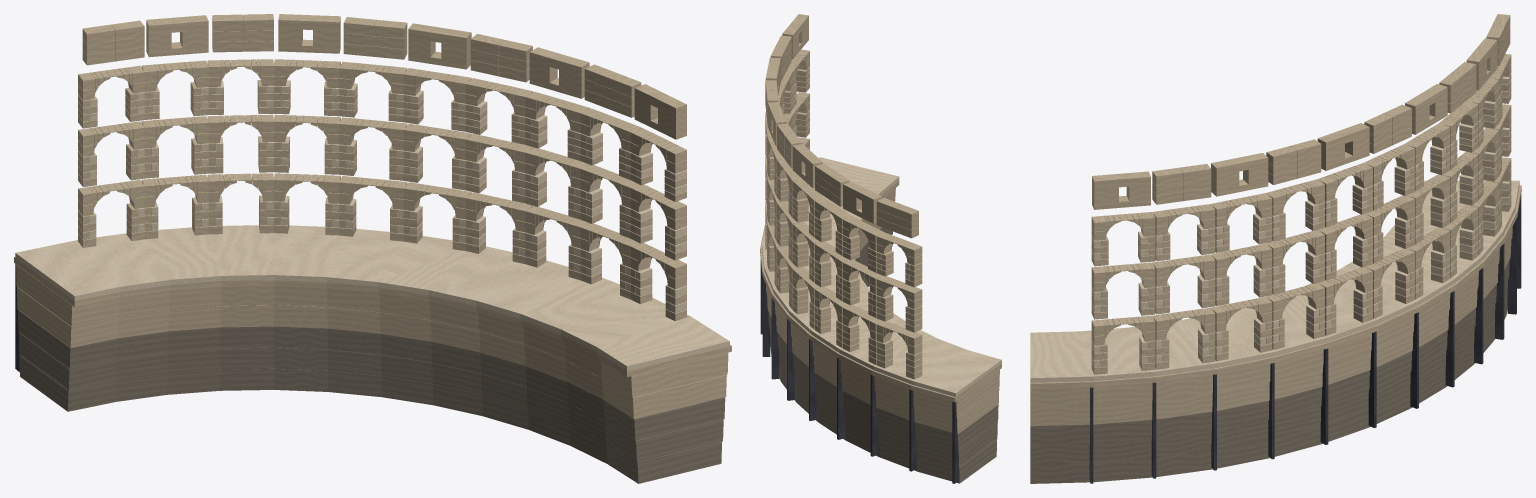
Rendered from COL_StoneMasonry_Q4.obj.
3 renders of one model, left to right at view 1: azimuth 30°, elevation 25°; view 2: azimuth 150°, elevation 25°; view 3: azimuth 270°, elevation 25°, orthographic. The views are drawn at different scales.
Visible parts, largest first — view 1: COL_StoneMasonry_Q4; view 2: COL_StoneMasonry_Q4; view 3: COL_StoneMasonry_Q4.
Part boxes in pixels (x1,y1,x2,y2): COL_StoneMasonry_Q4: [14, 14, 731, 483]; COL_StoneMasonry_Q4: [760, 14, 1001, 483]; COL_StoneMasonry_Q4: [1030, 14, 1521, 483].
Bounding box in the file's own units: 128 × 91.14 × 134.
4 materials, 4 textured.
